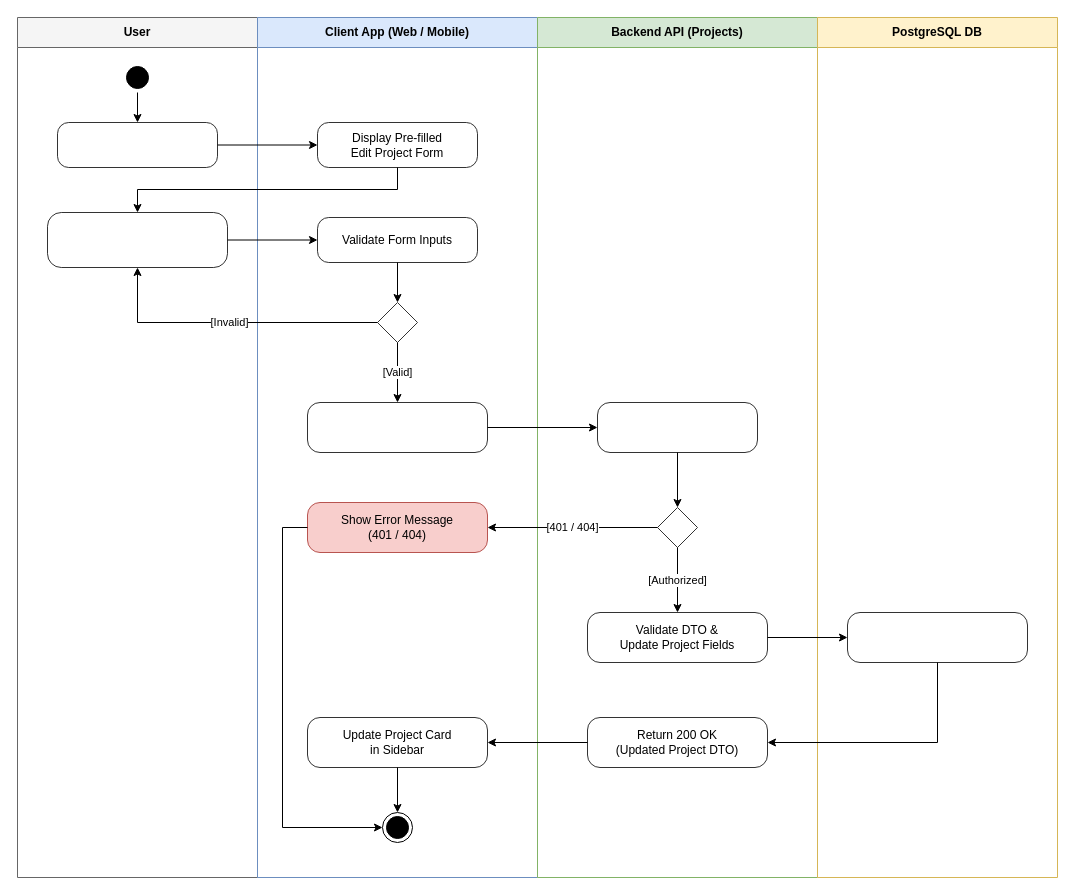
Some shapes in this 1075 by 895 pixel diagram are drawn without their labels. Here are the shapes that lost their labels. From the top down, the centre of each, then its label:
the point at 137,145: Click "Edit" on Project
the point at 137,240: Modify Project Details (Name, Color, Description)
the point at 397,427: Send PUT /api/projects/:id (with JWT)
the point at 677,427: Verify JWT & Project Ownership
the point at 937,637: UPDATE projects SET ... WHERE id = :id
